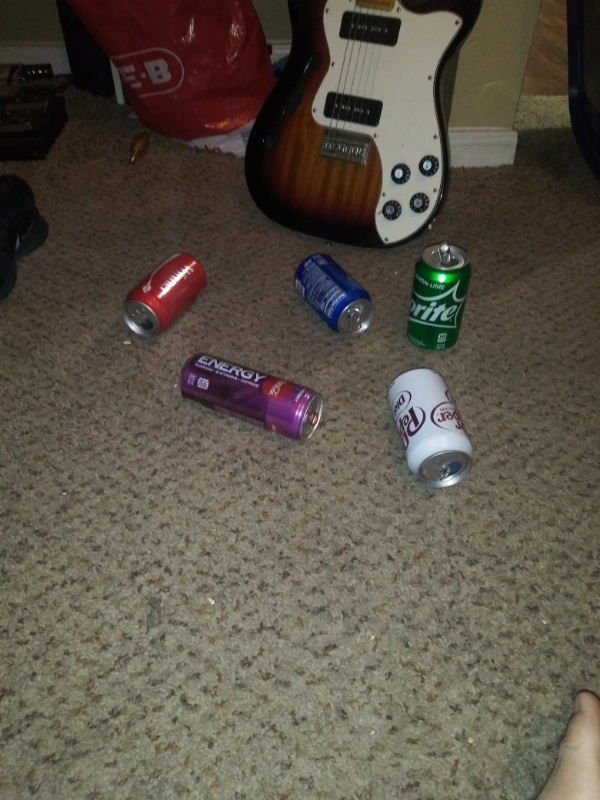can: (178, 348, 325, 438), (384, 365, 474, 489), (401, 239, 475, 355), (291, 250, 377, 341), (119, 249, 209, 334)
